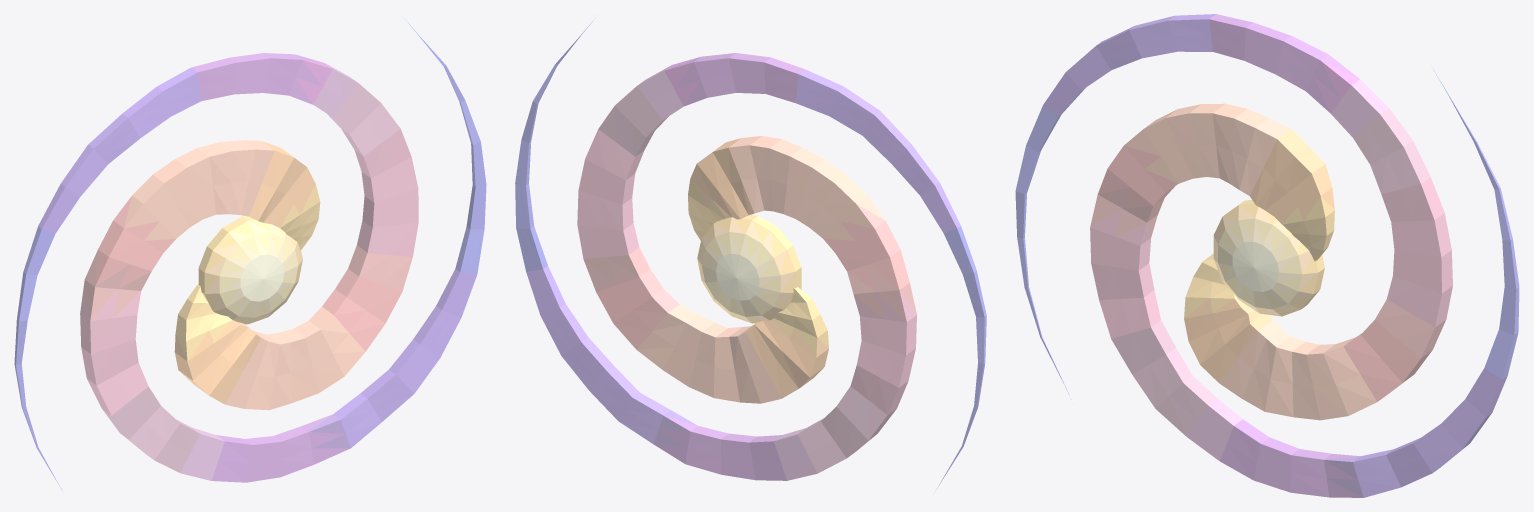
File: galaxy-011.glb
The picture shows the model from 3 angles, left to right: view 1: azimuth 30°, elevation 25°; view 2: azimuth 150°, elevation 25°; view 3: azimuth 330°, elevation 25°; orthographic projection. The views are drawn at different scales.
Parts seen in each view (by area): view 1: galaxy-011; view 2: galaxy-011; view 3: galaxy-011.
Boxes of the visible parts, left/top/right/bottom form: galaxy-011: left=14, top=18, right=486, bottom=490; galaxy-011: left=515, top=20, right=986, bottom=489; galaxy-011: left=1015, top=14, right=1519, bottom=497.
Bounding box in the file's own units: 131 × 115 × 13.
